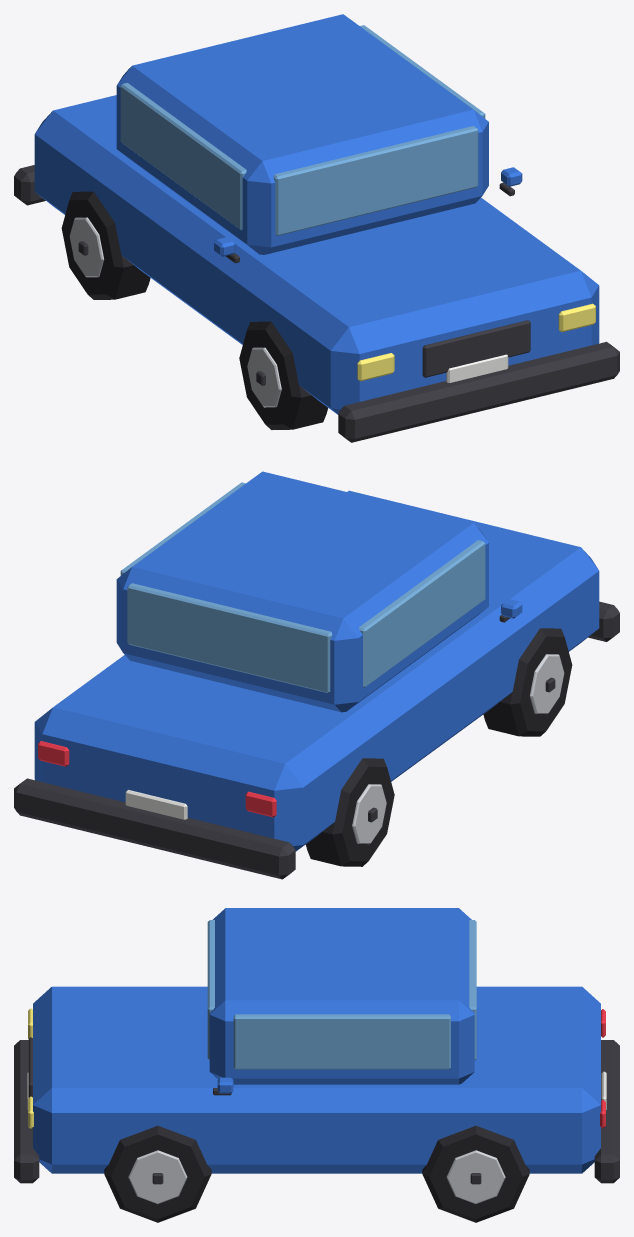
File: BlueCar.fbx
3 views of the same model, one above another, from view 1: azimuth 30°, elevation 25°; view 2: azimuth 150°, elevation 25°; view 3: azimuth 270°, elevation 25° (orthographic). The views are drawn at different scales.
Parts seen in each view (by area): view 1: BlueCar, BlueCar_WheelBR, BlueCar_WheelFR; view 2: BlueCar, BlueCar_WheelBR, BlueCar_WheelFR; view 3: BlueCar, BlueCar_WheelBL, BlueCar_WheelFL.
Boxes of the visible parts, left/top/right/bottom form: BlueCar: left=14, top=14, right=619, bottom=442; BlueCar_WheelBR: left=61, top=191, right=150, bottom=299; BlueCar_WheelFR: left=239, top=321, right=327, bottom=429; BlueCar: left=14, top=471, right=619, bottom=879; BlueCar_WheelBR: left=305, top=758, right=394, bottom=866; BlueCar_WheelFR: left=483, top=628, right=572, bottom=736; BlueCar: left=14, top=908, right=619, bottom=1183; BlueCar_WheelBL: left=422, top=1125, right=529, bottom=1222; BlueCar_WheelFL: left=104, top=1125, right=211, bottom=1222.
Size of the model in its own units: 4.95 by 3.67 by 9.6.
1 material, 1 textured.
